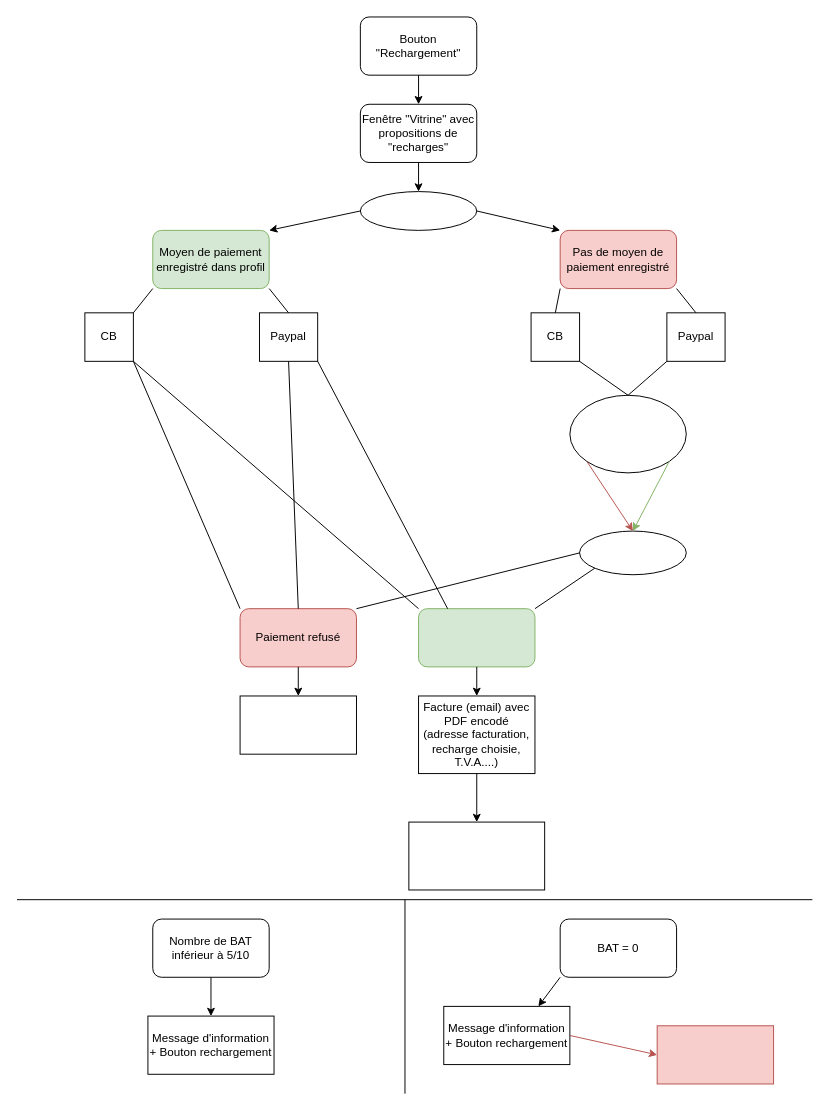
This 830x1112 diagram has some shape labels left out. Here are the shapes that lost their labels. From the top down, the box of each, then its label:
(359, 191, 477, 230): Sélection du rechargement
(569, 394, 686, 473): Case "Voulez-vous enregistrer le moyen de paiement ?"
(579, 530, 686, 575): MAJ des infos du client-entreprise
(418, 608, 535, 667): Paiement accepté
(239, 695, 356, 754): Fenêtre d'informations sur le paiement refusé
(408, 821, 545, 890): Retour Page d'accueil + MAJ BAT disponibles
(656, 1025, 774, 1084): Bouton "Envoyer le bon à tirer" indisponible
